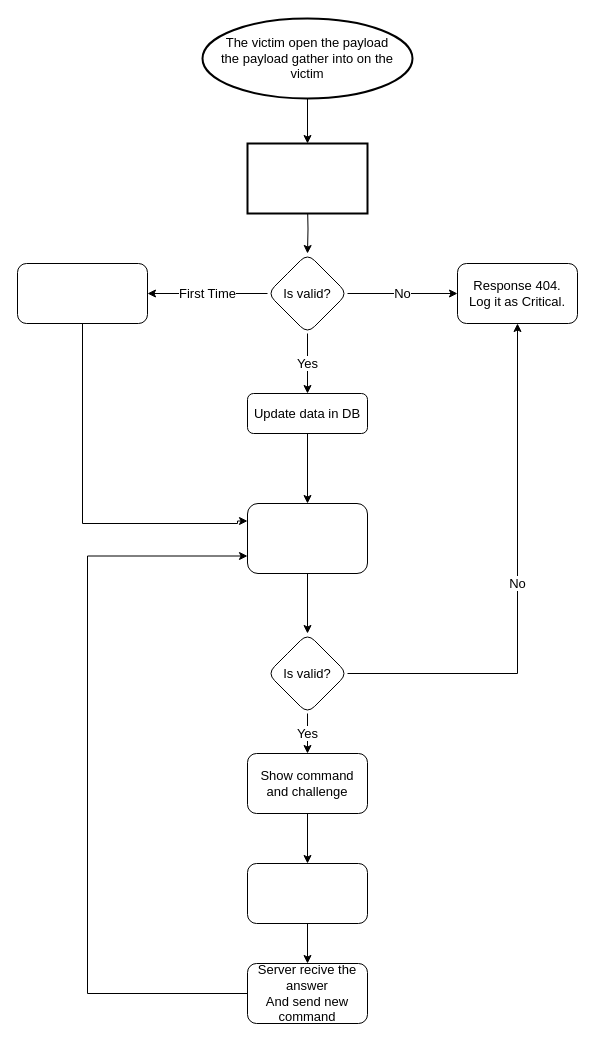
This 595x1041 diagram has some shape labels left out. Here are the shapes that lost their labels. From the top down, the box of each, then its label:
(246, 142, 368, 214): Incoming POST req with the output to victim-controller
(16, 262, 148, 324): Register by Identifier And send first command + challenge
(246, 502, 368, 574): Incoming GET req with response to challenge and Identifier
(246, 862, 368, 924): The victim execute the command And send response
